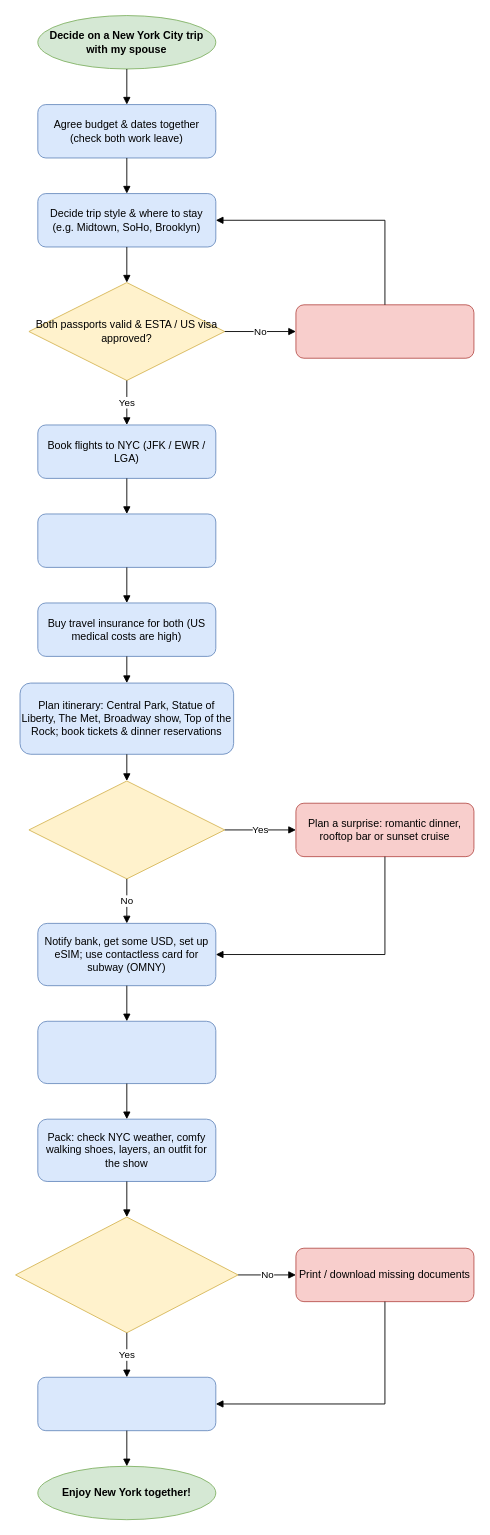
Image size: 490x1535. Some labels were removed from this diagram. Here are the shapes that lost their labels. From the top down, the box of each, then its label:
(295, 304, 474, 358): Renew passport / apply for ESTA or visa for both
(37, 513, 216, 567): Book hotel for two
(28, 780, 225, 879): Celebrating something special? (anniversary, birthday)
(37, 1020, 216, 1084): Arrange home: pet/plant care, hold mail, secure house
(15, 1216, 238, 1333): All documents ready? (passports, ESTA, flights, hotel, show tickets, insurance)
(37, 1376, 216, 1431): Check in online & head to the airport together
